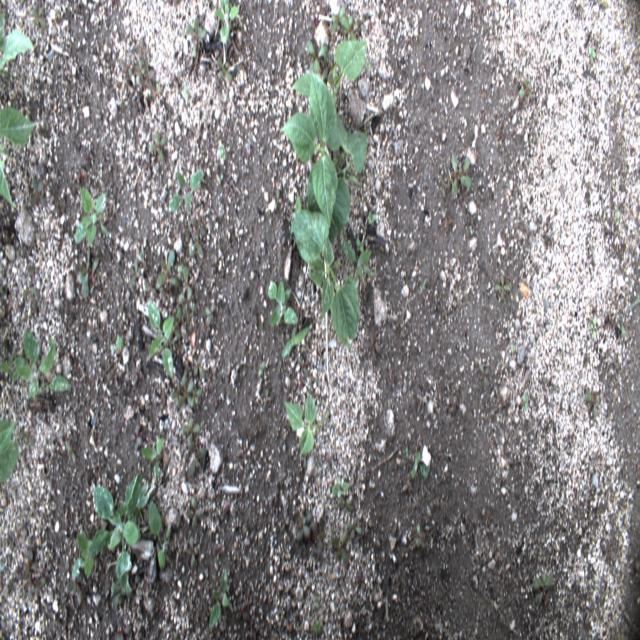crop: (275, 64, 370, 237), (289, 210, 360, 350), (291, 37, 370, 98), (0, 104, 37, 210), (282, 390, 330, 470), (0, 11, 35, 76), (0, 416, 20, 486)
weed: (74, 470, 162, 610), (0, 326, 72, 402), (143, 301, 177, 379), (75, 184, 105, 247), (168, 170, 204, 220), (340, 238, 380, 282), (266, 278, 300, 328), (280, 308, 309, 360), (79, 246, 103, 303), (210, 568, 232, 628), (213, 0, 240, 44), (140, 435, 165, 480), (155, 244, 176, 295), (451, 154, 473, 198), (178, 257, 197, 299), (531, 570, 553, 606), (306, 40, 328, 74), (182, 375, 204, 408), (62, 578, 84, 610), (176, 287, 196, 322), (157, 525, 171, 572), (331, 4, 354, 32), (330, 474, 350, 506), (24, 544, 41, 581), (293, 508, 313, 539), (411, 448, 429, 482), (150, 129, 168, 163), (185, 497, 204, 529), (186, 450, 206, 479), (107, 334, 124, 368), (493, 272, 511, 304), (186, 17, 206, 45), (181, 416, 201, 443), (31, 178, 49, 208), (193, 352, 210, 383), (332, 530, 348, 562), (585, 388, 600, 422), (143, 58, 157, 90), (216, 56, 234, 80), (204, 298, 218, 328), (189, 234, 203, 264), (21, 280, 43, 299), (30, 6, 47, 30), (134, 33, 148, 61), (347, 516, 362, 539), (130, 256, 140, 290), (119, 52, 132, 78), (187, 537, 199, 565), (170, 384, 184, 407), (588, 314, 598, 341), (587, 44, 597, 63), (257, 358, 266, 378), (312, 618, 323, 634), (218, 141, 226, 163), (524, 134, 536, 148), (134, 58, 144, 74), (614, 203, 621, 225), (368, 211, 376, 229), (521, 394, 529, 410), (404, 444, 410, 462), (183, 84, 189, 100), (620, 323, 626, 337), (519, 86, 526, 98), (509, 342, 516, 352), (315, 594, 319, 610)
